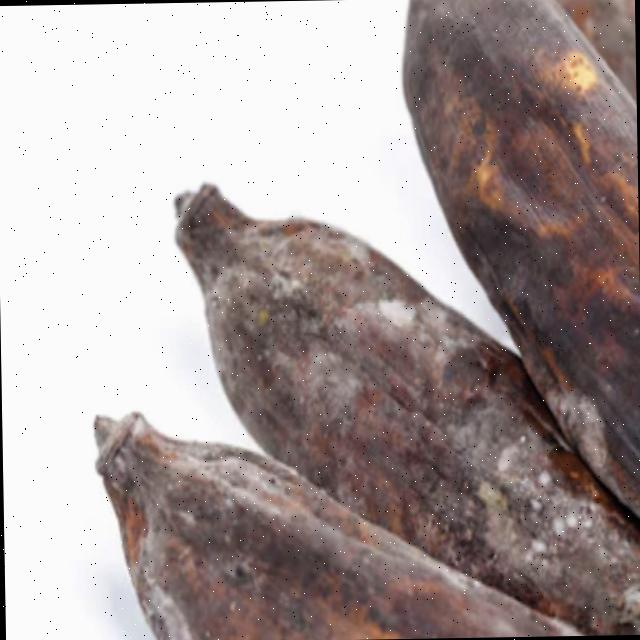rotten banana: (77, 29, 634, 640)
